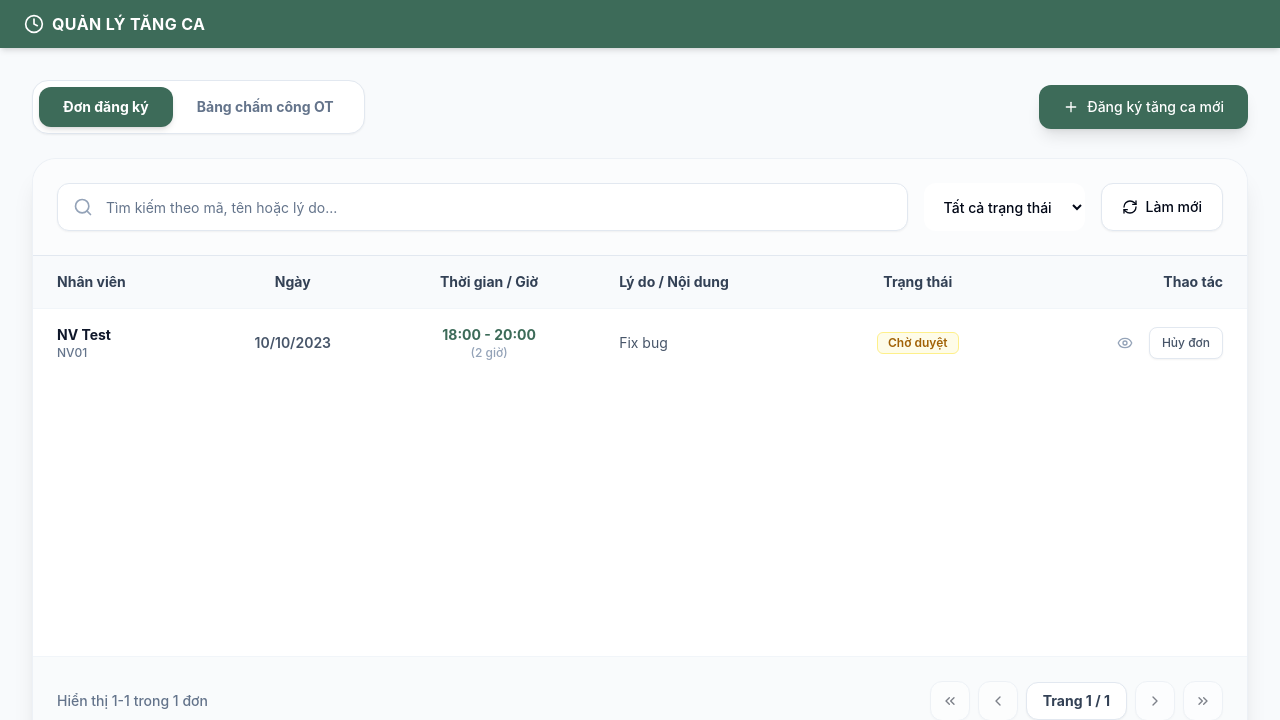
Test: Attendance Pages › OvertimeRegistrationPage › 2. Click tạo mới -> mở modal đăng ký
Expected: the text "NV Test" is shown, [57, 326, 111, 343]
Step 1. Click the button "Đăng ký tăng ca mới" → (1144, 107), box [1039, 85, 1248, 129]
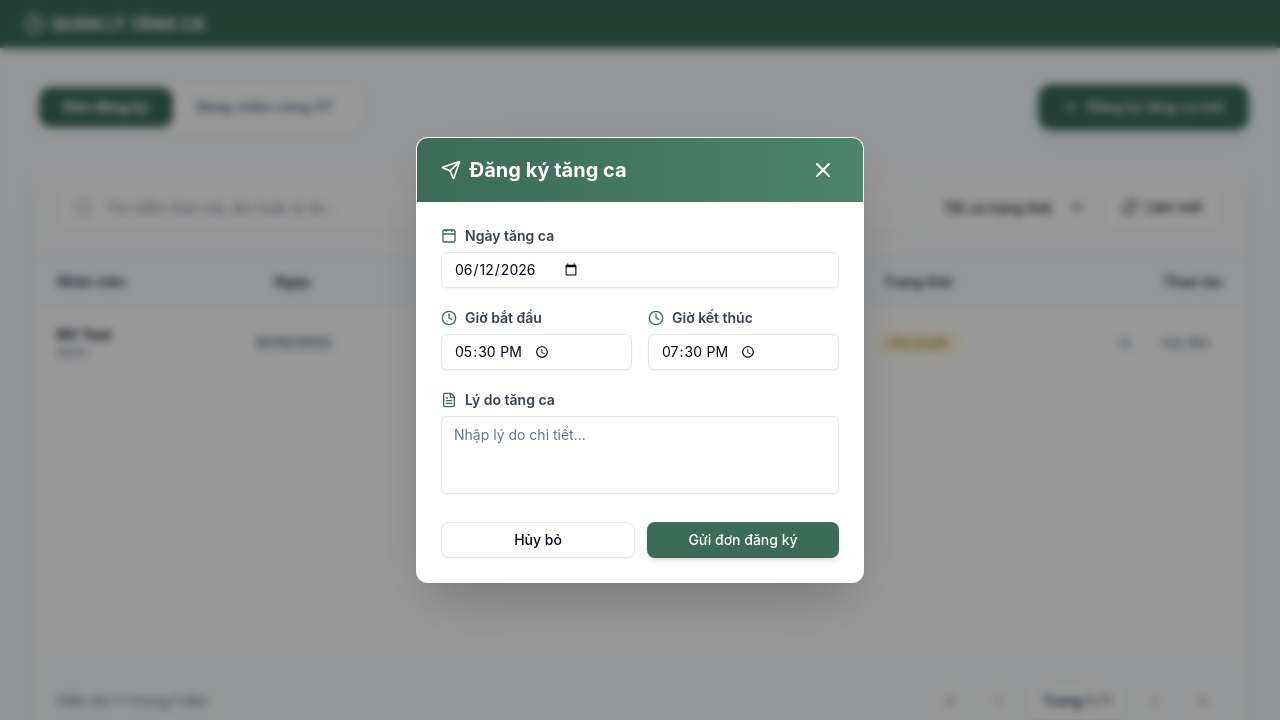
Now the heading "Đăng ký tăng ca" is shown, box [441, 156, 627, 184]
